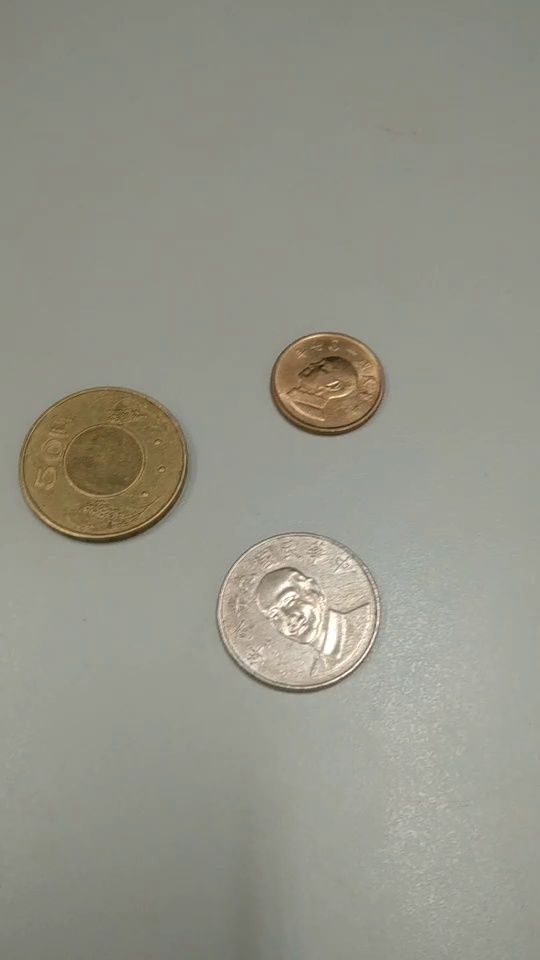NT$ 1: (266, 332, 388, 438)
NT$ 10: (217, 532, 382, 692)
NT$ 50: (18, 383, 192, 549)
